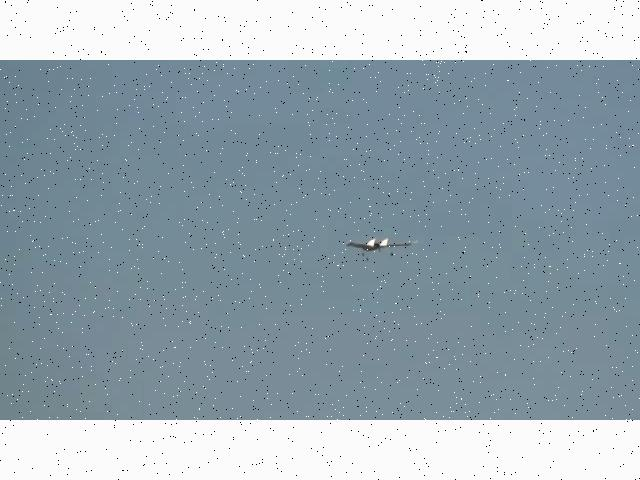Anti-Drone: (347, 239, 417, 253)
